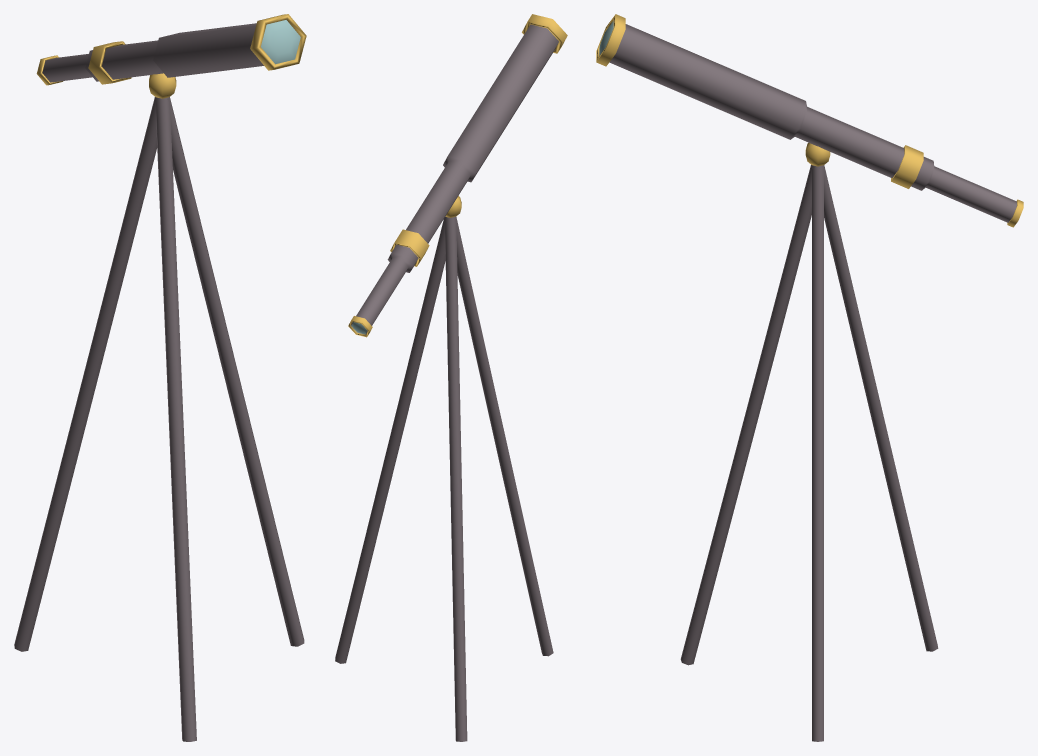
Rendered from telescope.fbx.
The picture shows the model from 3 angles, left to right: view 1: azimuth 30°, elevation 25°; view 2: azimuth 150°, elevation 25°; view 3: azimuth 270°, elevation 25°; orthographic projection. The views are drawn at different scales.
Visible parts, largest first — view 1: pCylinder5; view 2: pCylinder5; view 3: pCylinder5.
Boxes of the visible parts, x1,y1,x2,y2 form: pCylinder5: [14, 14, 306, 741]; pCylinder5: [335, 14, 567, 741]; pCylinder5: [596, 14, 1023, 741].
Size of the model in its own units: 9.75 by 30.66 by 17.9.
